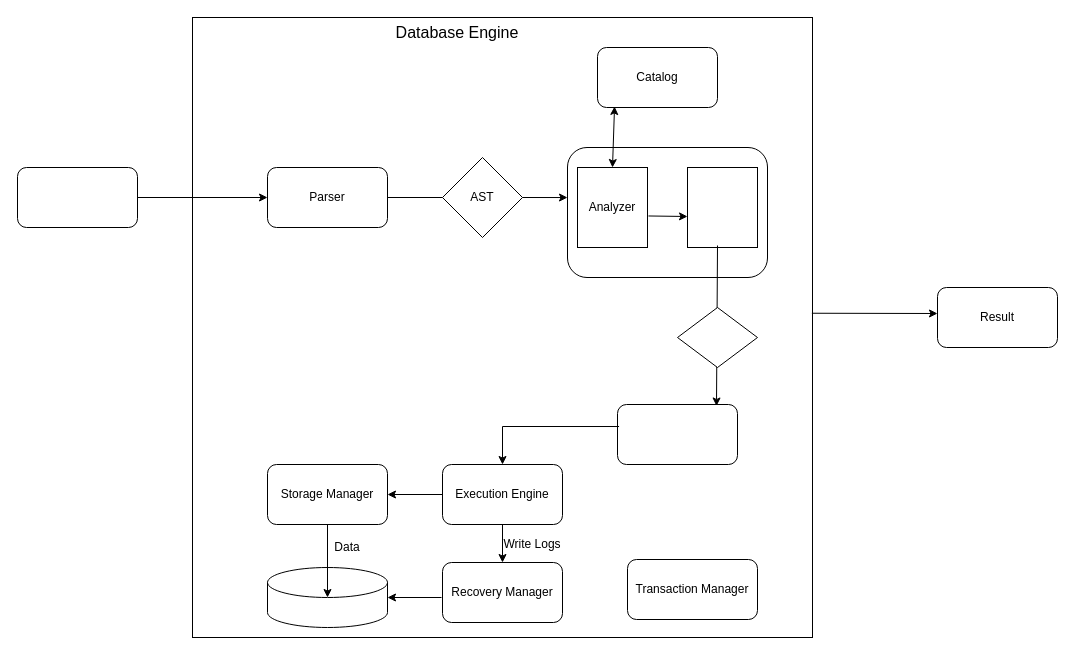
This 1075x655 diagram has some shape labels left out. Here are the shapes that lost their labels. From the top down, the centre of each, then its label:
the point at 77,197: Sql query
the point at 722,207: Planner
the point at 717,337: Distribution
the point at 677,434: Query Optimizer
the point at 327,597: Storage
